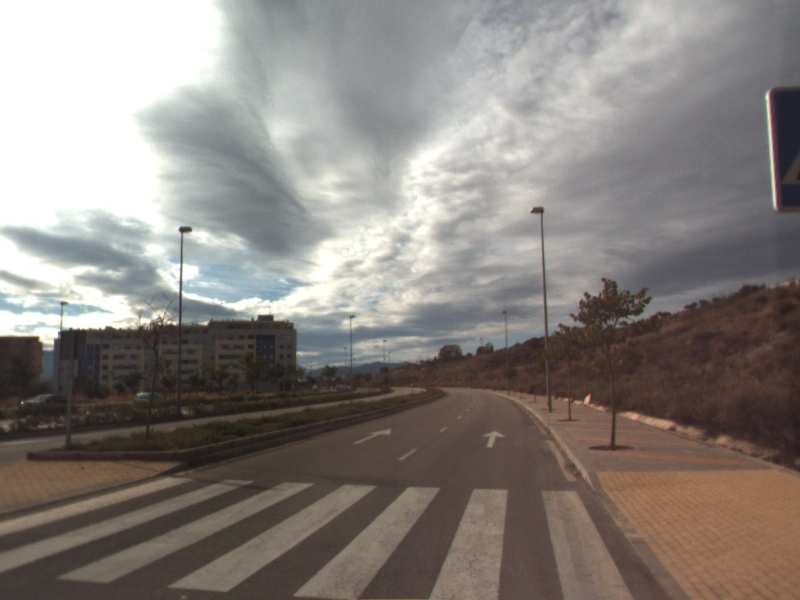STRAIGHT: (350, 426, 394, 446), (480, 428, 508, 449)
